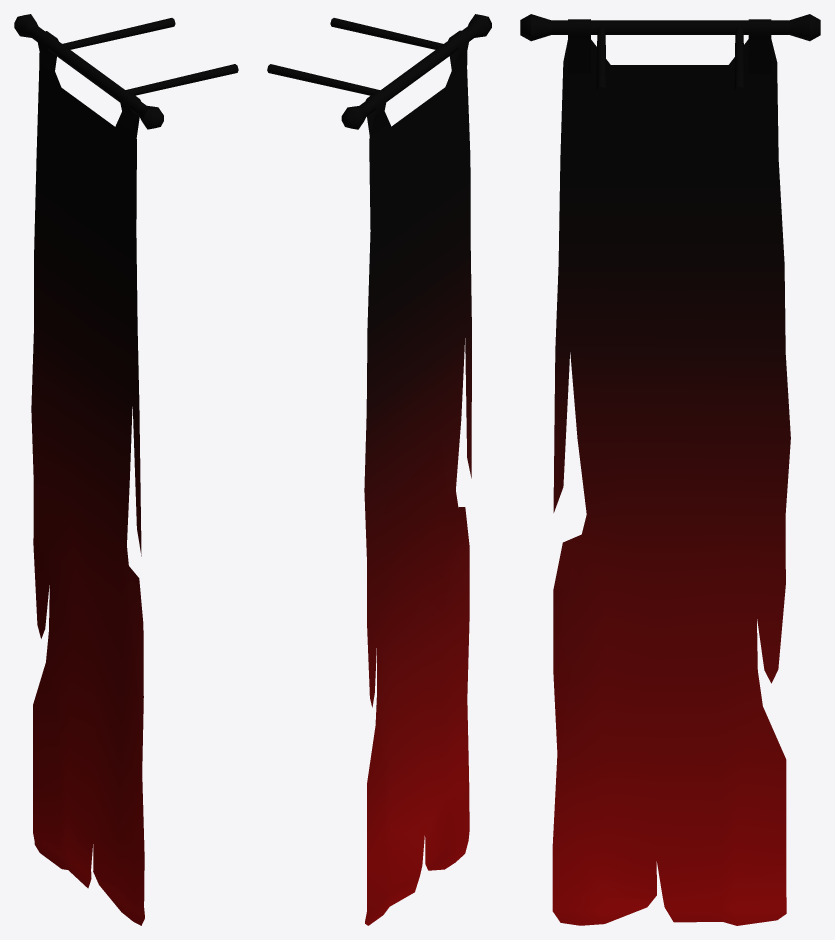
File: TFD_Cloth_08B.fbx
3 views of the same model, side by side, from view 1: azimuth 30°, elevation 25°; view 2: azimuth 150°, elevation 25°; view 3: azimuth 270°, elevation 25° (orthographic). The views are drawn at different scales.
Visible parts, largest first — view 1: TFD_Cloth_08B_LOD1; view 2: TFD_Cloth_08B_LOD1; view 3: TFD_Cloth_08B_LOD1.
Boxes of the visible parts, bbox=[...] form: TFD_Cloth_08B_LOD1: bbox=[14, 14, 238, 925]; TFD_Cloth_08B_LOD1: bbox=[267, 14, 491, 925]; TFD_Cloth_08B_LOD1: bbox=[520, 14, 820, 925].
Size of the model in its own units: 109 by 682 by 205.
